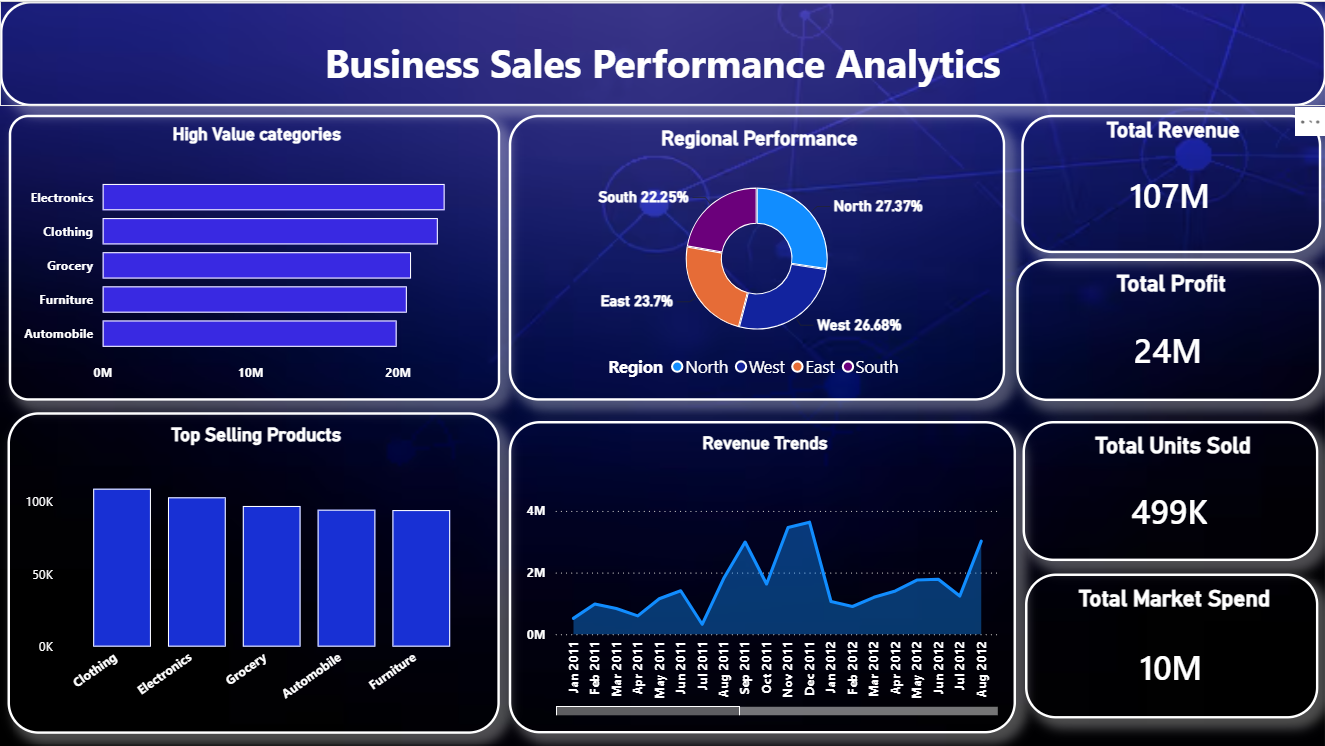

Layout of this report page (visuals, bound fields, positions):
{"tool":"powerbi","page":{"name":"Page 1","canvas":[1280,720],"ordinal":0},"visuals":[{"type":"textbox","box":[0,0,1280.3,101.5],"z":0},{"type":"barChart","title":"High Value categories","fields":{"Y":["Sum(large_sales_data.Revenue)"],"Category":["large_sales_data.Product_Category"]},"box":[8.4,109.8,474.1,276.3],"z":1000},{"type":"columnChart","title":"Top Selling Products","fields":{"Category":["large_sales_data.Product_Category"],"Y":["Sum(large_sales_data.Units_Sold)"]},"box":[7.2,396.9,475.3,310.1],"z":2000},{"type":"donutChart","title":"Regional Performance","fields":{"Category":["large_sales_data.Region"],"Y":["Sum(large_sales_data.Revenue)"]},"box":[491,109.8,479,276.3],"z":3000},{"type":"areaChart","title":"Revenue Trends","fields":{"Category":["large_sales_data.Month-Year"],"Y":["Sum(large_sales_data.Revenue)"]},"box":[491,405.4,489.8,301.6],"z":4000},{"type":"cardVisual","title":"Total Revenue","fields":{"Data":["Sum(large_sales_data.Revenue)"]},"box":[985.7,109.8,289.5,133.9],"z":5000},{"type":"cardVisual","title":"Total Profit","fields":{"Data":["Sum(large_sales_data.Profit)"]},"box":[980.8,248.5,294.4,137.5],"z":6000},{"type":"cardVisual","title":"Total Units Sold","fields":{"Data":["Sum(large_sales_data.Units_Sold)"]},"box":[986.9,405.4,285.9,135.1],"z":7000},{"type":"cardVisual","title":"Total Market Spend","fields":{"Data":["Sum(large_sales_data.Marketing_Spend)"]},"box":[989.3,552.5,283.5,139.9],"z":8000}]}

Visuals, with their boxes in screenshot pixels (x1, y1, x2, y2), scaled from the page's 1280x720 canvas onto the 1325x746 screenshot:
textbox: Rect(0, 0, 1324, 105)
"High Value categories" barChart: Rect(9, 114, 499, 400)
"Top Selling Products" columnChart: Rect(7, 411, 499, 733)
"Regional Performance" donutChart: Rect(508, 114, 1004, 400)
"Revenue Trends" areaChart: Rect(508, 420, 1015, 733)
"Total Revenue" cardVisual: Rect(1020, 114, 1320, 253)
"Total Profit" cardVisual: Rect(1015, 257, 1320, 400)
"Total Units Sold" cardVisual: Rect(1022, 420, 1318, 560)
"Total Market Spend" cardVisual: Rect(1024, 572, 1318, 717)
